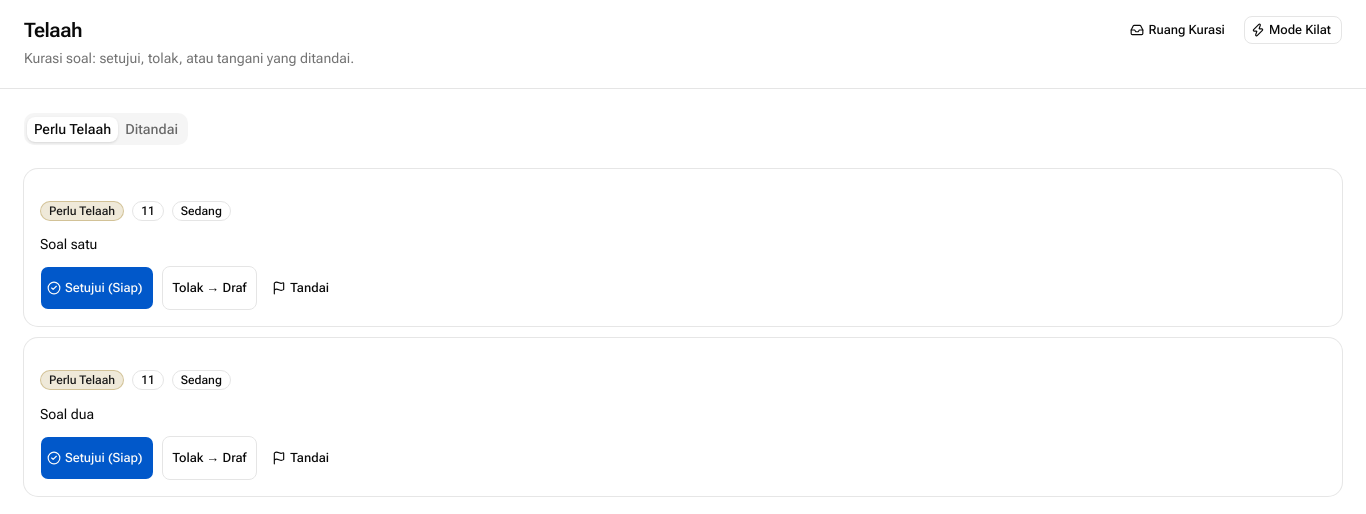
it: ReviewView — Mode Kilat (G3.2) › menampilkan satu kartu & navigasi berikutnya
The width and height of the screenshot is (1366, 514).
Click the button "Mode Kilat": (1293, 30) [1244,16,1342,44]
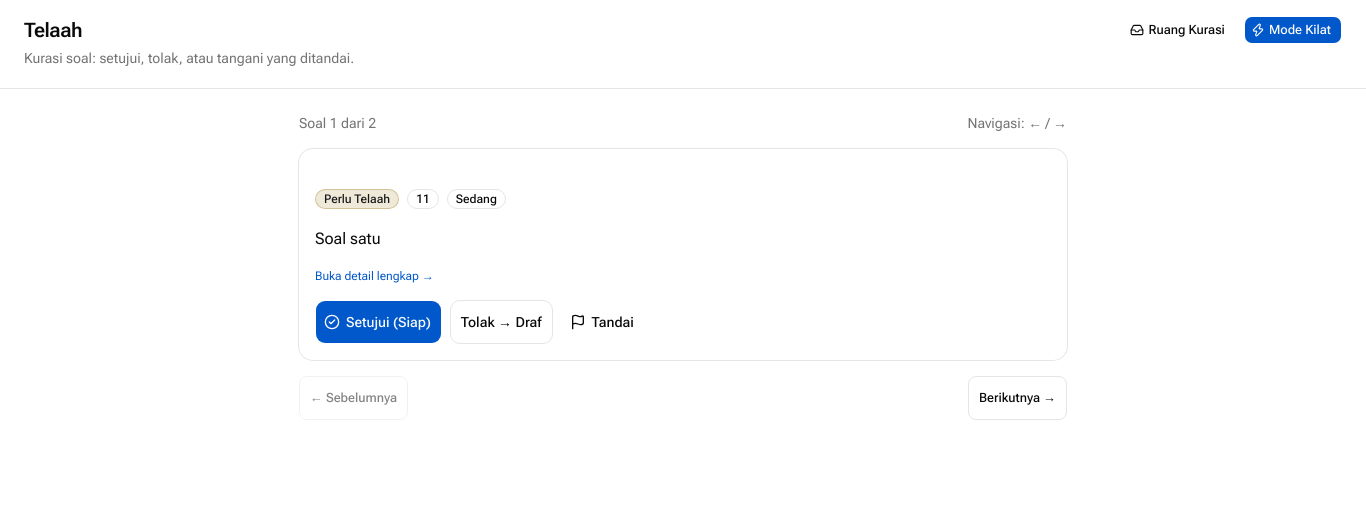
Expected: the text "Soal 1 dari 2" is shown, [299,113,376,133]
Expected: the text "Soal satu" is shown, [315,229,380,248]
Click the button "Berikutnya →": (1018, 398) [968,376,1067,420]
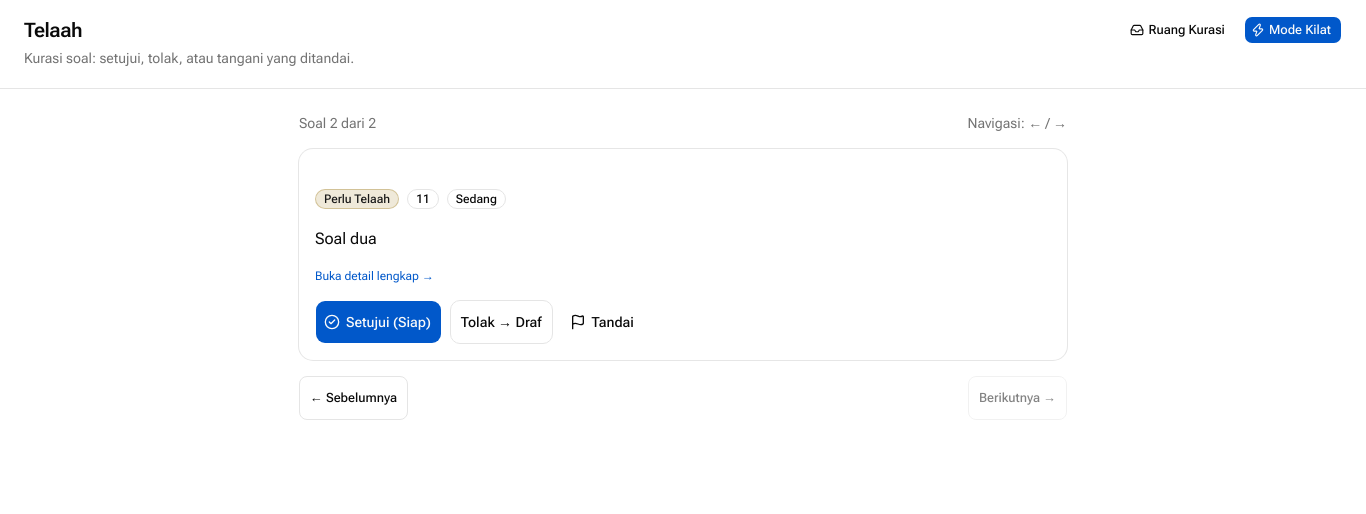
Expected: the text "Soal 2 dari 2" is shown, [299,113,376,133]
